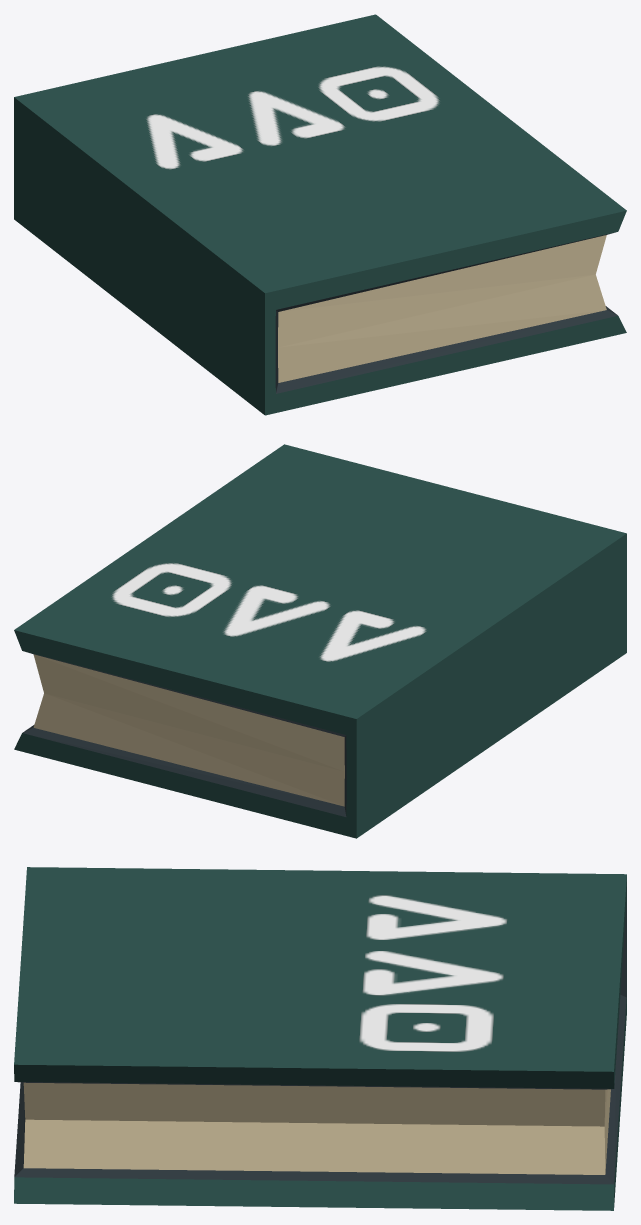
The model's file is 3D_book_3.fbx.
The picture shows the model from 3 angles, top to bottom: view 1: azimuth 30°, elevation 25°; view 2: azimuth 150°, elevation 25°; view 3: azimuth 270°, elevation 25°; orthographic projection. The views are drawn at different scales.
Visible parts, largest first — view 1: 3d_book.002; view 2: 3d_book.002; view 3: 3d_book.002.
Part boxes in pixels (x1,y1,x2,y2): 3d_book.002: (14, 14, 626, 415); 3d_book.002: (14, 444, 626, 838); 3d_book.002: (14, 867, 626, 1210).
Bounding box in the file's own units: 0.3727 × 0.118 × 0.4717.
